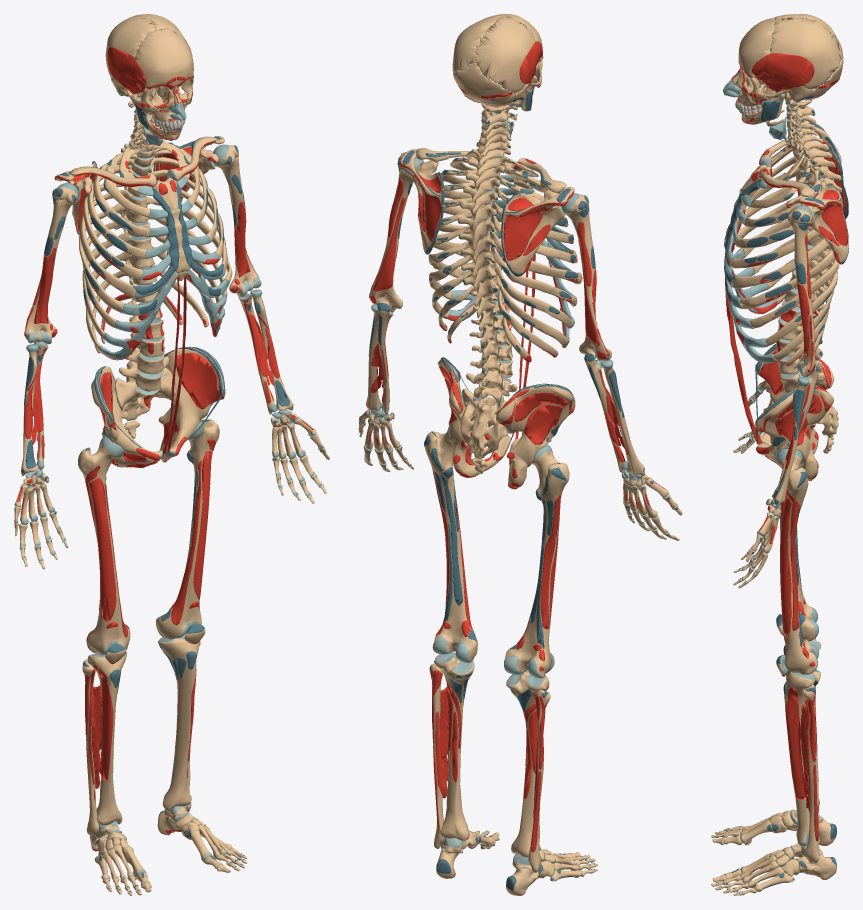
File: muscular_insertions.glb
The picture shows the model from 3 angles, left to right: view 1: azimuth 30°, elevation 25°; view 2: azimuth 150°, elevation 25°; view 3: azimuth 270°, elevation 25°; orthographic projection. The views are drawn at different scales.
Visible parts, largest first — view 1: Object_3, Object_71, Object_36, Object_45; view 2: Object_3, Object_71, Object_45, Object_36; view 3: Object_3, Object_71, Object_45, Object_36.
Part boxes in pixels (x1,y1,x2,y2): Object_3: [14, 14, 329, 895]; Object_71: [17, 38, 313, 878]; Object_36: [14, 95, 323, 891]; Object_45: [14, 86, 322, 892]; Object_3: [358, 14, 682, 895]; Object_71: [364, 41, 665, 893]; Object_45: [359, 86, 677, 890]; Object_36: [360, 88, 676, 876]; Object_3: [711, 14, 848, 895]; Object_71: [724, 53, 847, 885]; Object_45: [716, 89, 848, 893]; Object_36: [716, 79, 826, 894].
Size of the model in its own units: 0.6691 by 1.7 by 0.2506.
